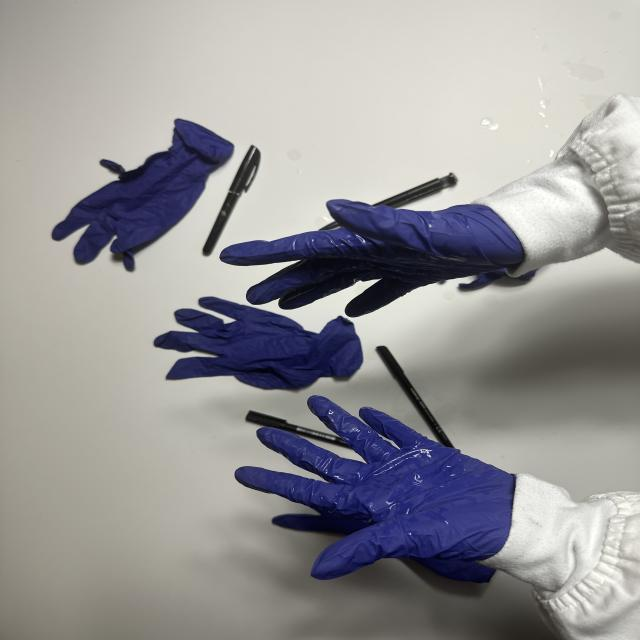gloves_contaminated: (235, 396, 515, 579), (221, 200, 524, 317)
